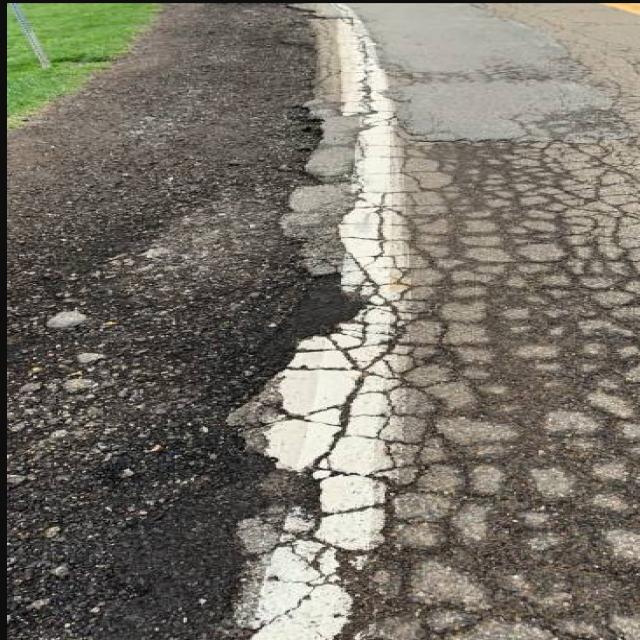Pothole: (35, 46, 494, 640)
